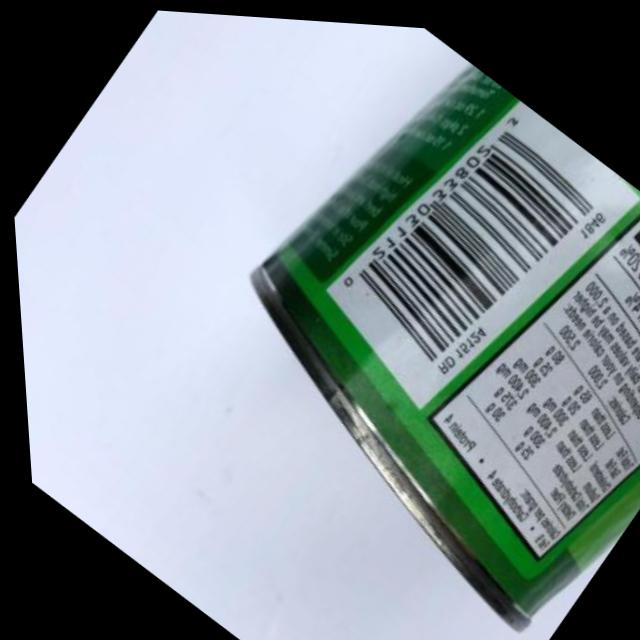metal: (241, 22, 639, 613)
